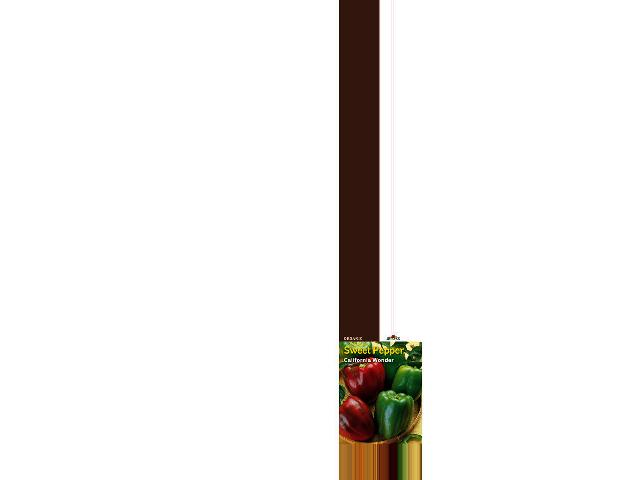bell_pepper: (394, 361, 423, 405)
